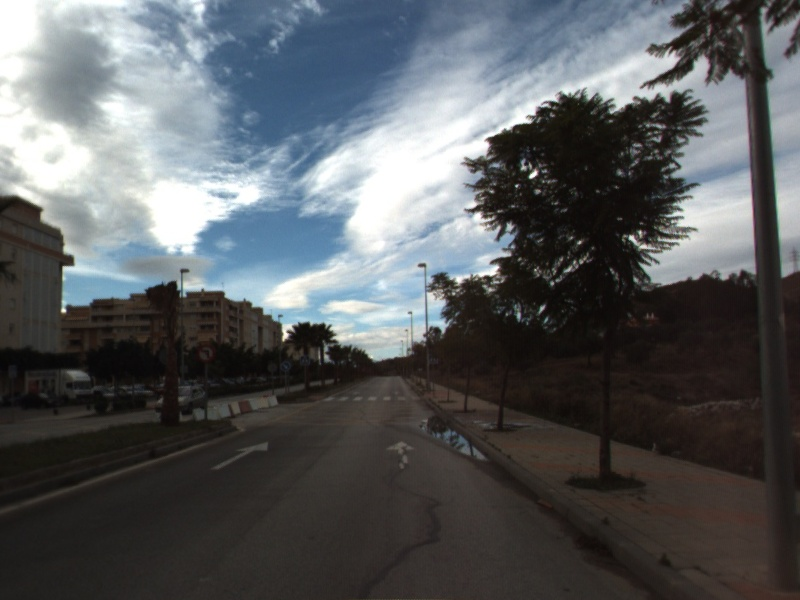STRAIGHT: (208, 440, 270, 472), (384, 439, 417, 471)
